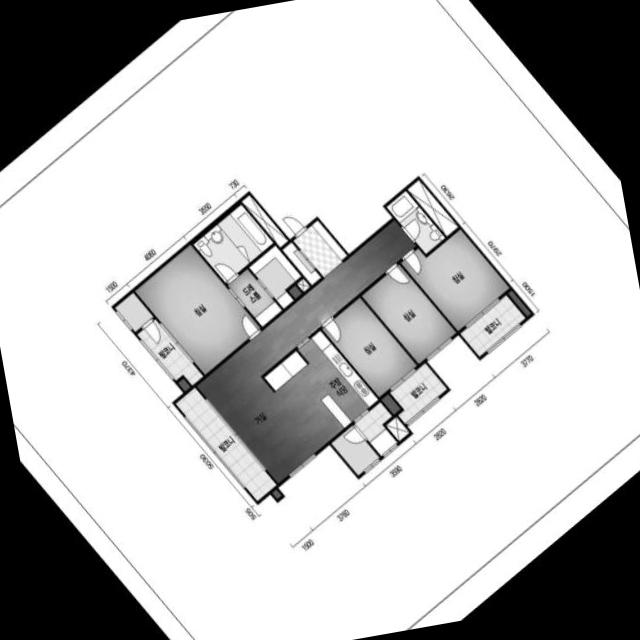background: (0, 0, 640, 640)
space_balconi: (176, 387, 276, 500), (137, 318, 203, 385), (460, 294, 525, 356), (390, 362, 447, 423), (354, 402, 397, 455)
space_bedroom: (135, 244, 260, 374), (401, 228, 510, 330), (361, 264, 456, 363), (322, 297, 416, 397)
space_dressroom: (249, 245, 301, 308), (228, 268, 282, 326)
space_front: (293, 219, 347, 277)
space_kitchen: (264, 330, 378, 447)
space_living_room: (196, 220, 416, 483)
space_other: (407, 179, 458, 236), (241, 194, 288, 247), (331, 425, 379, 475), (282, 241, 321, 284), (115, 292, 153, 331), (508, 290, 531, 316), (386, 416, 409, 441), (381, 393, 400, 414), (297, 278, 310, 291), (289, 285, 302, 298), (178, 378, 190, 391)
space_toilet: (193, 203, 273, 282), (386, 190, 445, 253)
